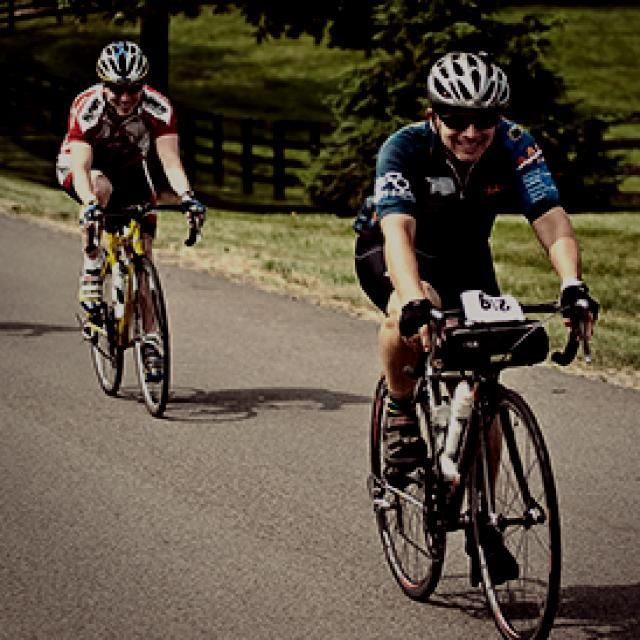Helmet: (411, 46, 512, 159), (91, 40, 147, 118)
